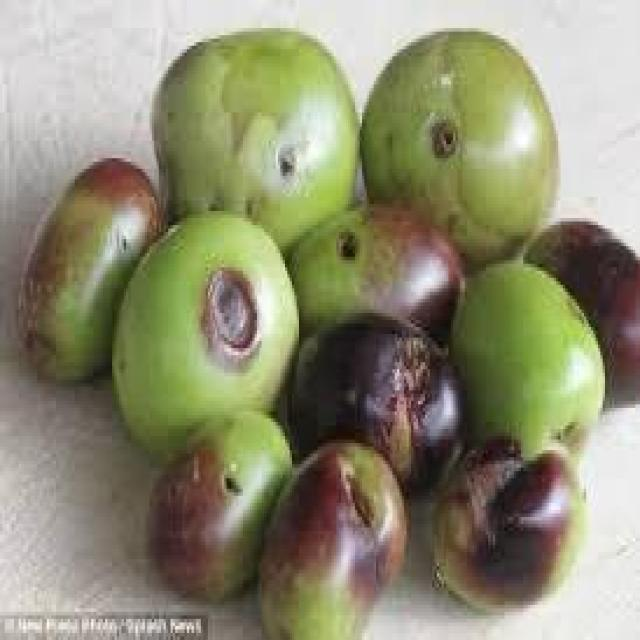Olive Fruit Fly: (362, 32, 556, 260), (152, 28, 353, 246), (114, 211, 297, 450), (19, 158, 159, 373), (290, 313, 455, 482), (262, 443, 404, 636), (434, 440, 586, 608), (154, 411, 290, 598), (287, 204, 460, 334), (526, 222, 638, 401)
